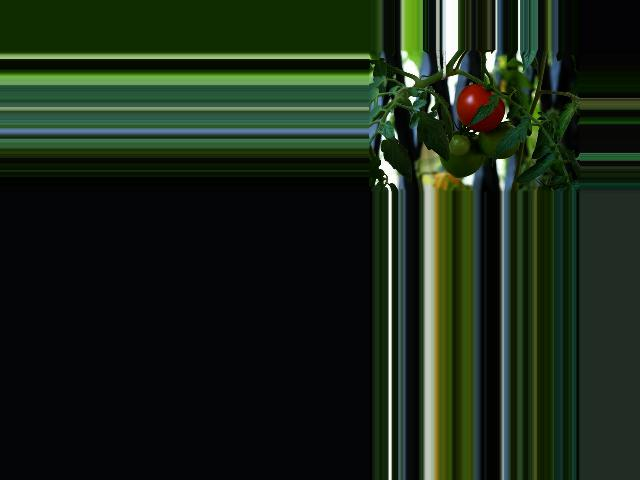tomato: (455, 83, 504, 131)
